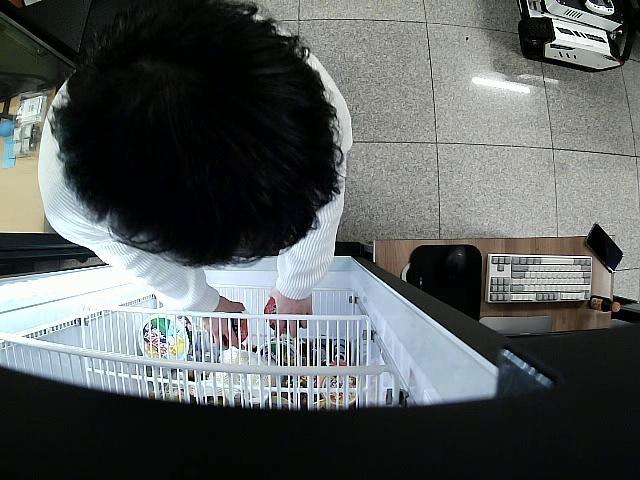02_shinRamen_S: (220, 311, 248, 348), (264, 298, 290, 330)
